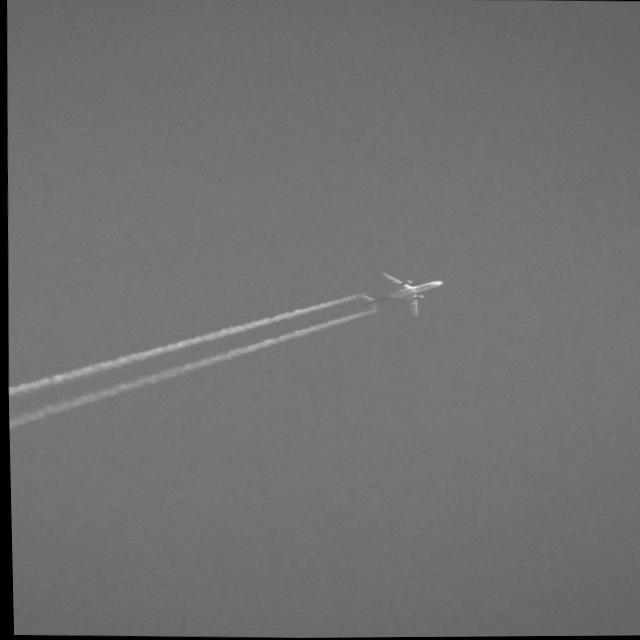aeroplane: (345, 268, 449, 327)
